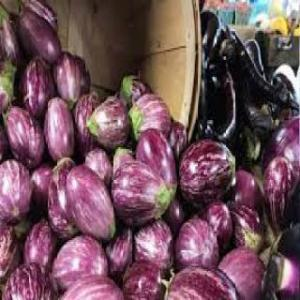eggplant: (64, 163, 116, 235), (178, 138, 234, 202), (111, 158, 167, 220), (52, 234, 108, 288), (164, 260, 238, 298), (264, 157, 296, 235), (3, 105, 43, 165), (19, 7, 60, 61), (176, 215, 218, 266), (89, 96, 127, 148), (21, 51, 53, 112), (130, 91, 172, 137), (44, 98, 74, 158), (53, 50, 81, 104)
